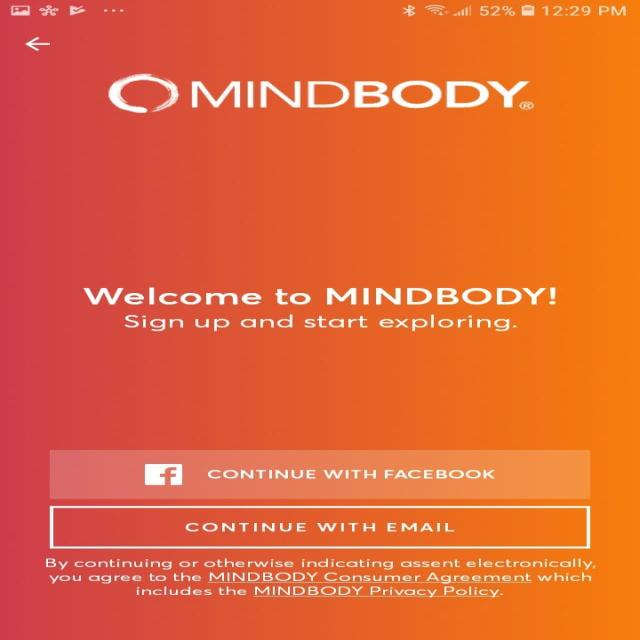Icon: (24, 37, 51, 51)
Image: (106, 73, 534, 114)
Text: (45, 558, 595, 597), (82, 287, 556, 305), (124, 314, 516, 332)
TextButton: (49, 450, 590, 499), (48, 504, 590, 548)
